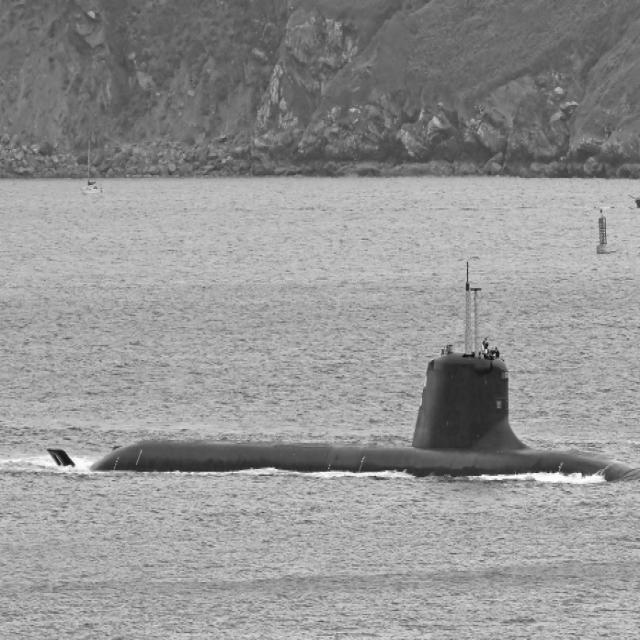submarine: (49, 265, 640, 476)
